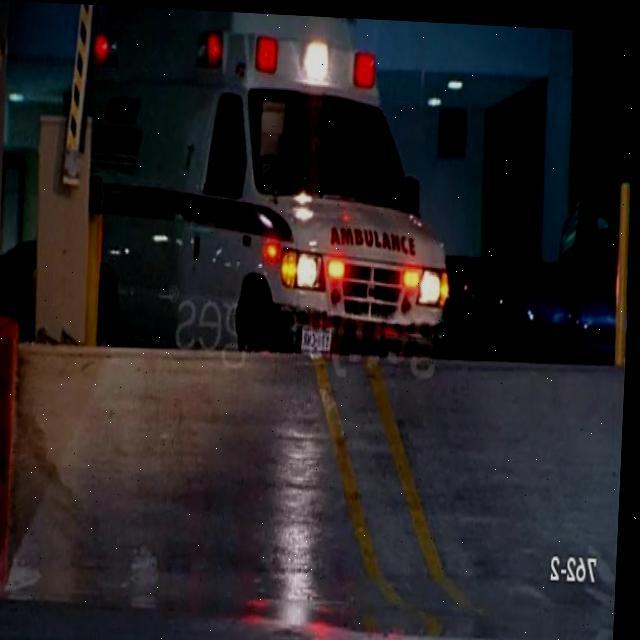emergency: (180, 8, 464, 355)
